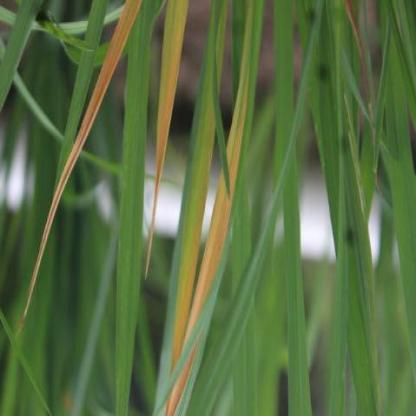Tungro: (25, 1, 142, 318), (171, 2, 257, 416), (174, 1, 233, 371), (148, 1, 190, 267)
